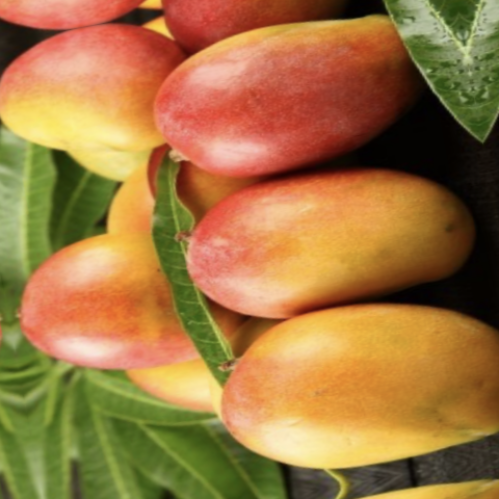mango: (110, 0, 463, 209), (180, 268, 499, 499), (177, 129, 491, 339), (0, 196, 249, 404)
